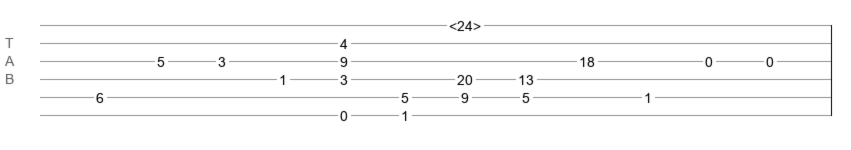0: (340, 108, 348, 118), (705, 54, 713, 64), (766, 54, 774, 64)
1: (279, 72, 287, 82), (401, 108, 409, 118), (644, 90, 652, 100)
13: (518, 72, 534, 82)
18: (579, 54, 595, 64)
20: (457, 72, 473, 82)
3: (218, 54, 226, 64), (340, 72, 348, 82)
4: (340, 36, 348, 46)
5: (157, 54, 165, 64), (401, 90, 409, 100), (522, 90, 530, 100)
6: (96, 90, 104, 100)
9: (340, 54, 348, 64), (461, 90, 469, 100)
harmonic: (449, 18, 481, 28)
